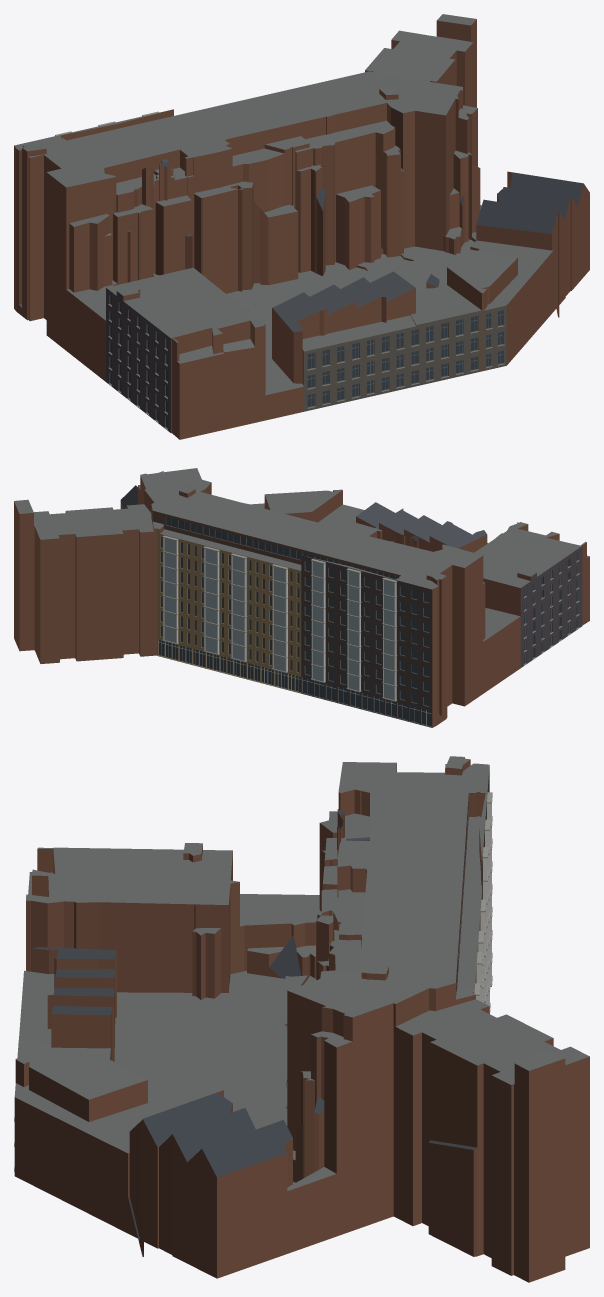
Rendered from recipe-large-houthavenkade-26-247232.glb.
The picture shows the model from 3 angles, top to bottom: view 1: azimuth 30°, elevation 25°; view 2: azimuth 150°, elevation 25°; view 3: azimuth 270°, elevation 25°; orthographic projection. The views are drawn at different scales.
Visible parts, largest first — view 1: houthavenkade-26-247232; view 2: houthavenkade-26-247232; view 3: houthavenkade-26-247232.
Part boxes in pixels (bbox=[...]): houthavenkade-26-247232: bbox=[14, 14, 589, 439]; houthavenkade-26-247232: bbox=[14, 468, 589, 727]; houthavenkade-26-247232: bbox=[14, 756, 589, 1282].
Size of the model in its own units: 90.18 by 31.97 by 70.47.
